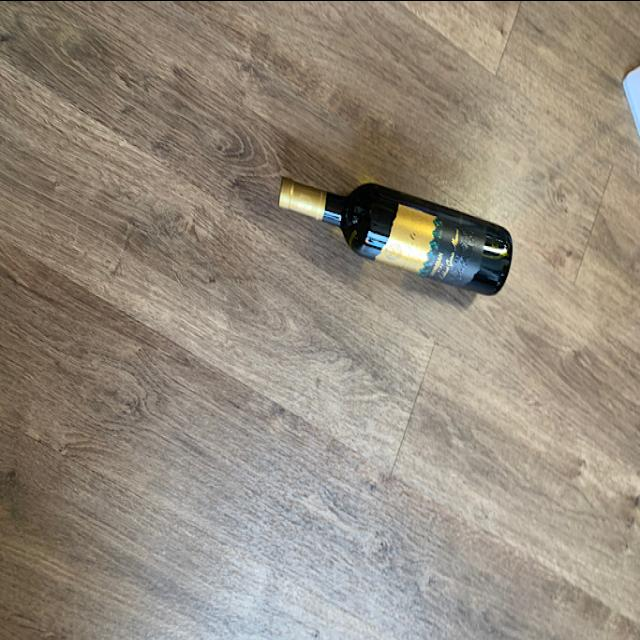Glass Bottle: (276, 174, 518, 295)
